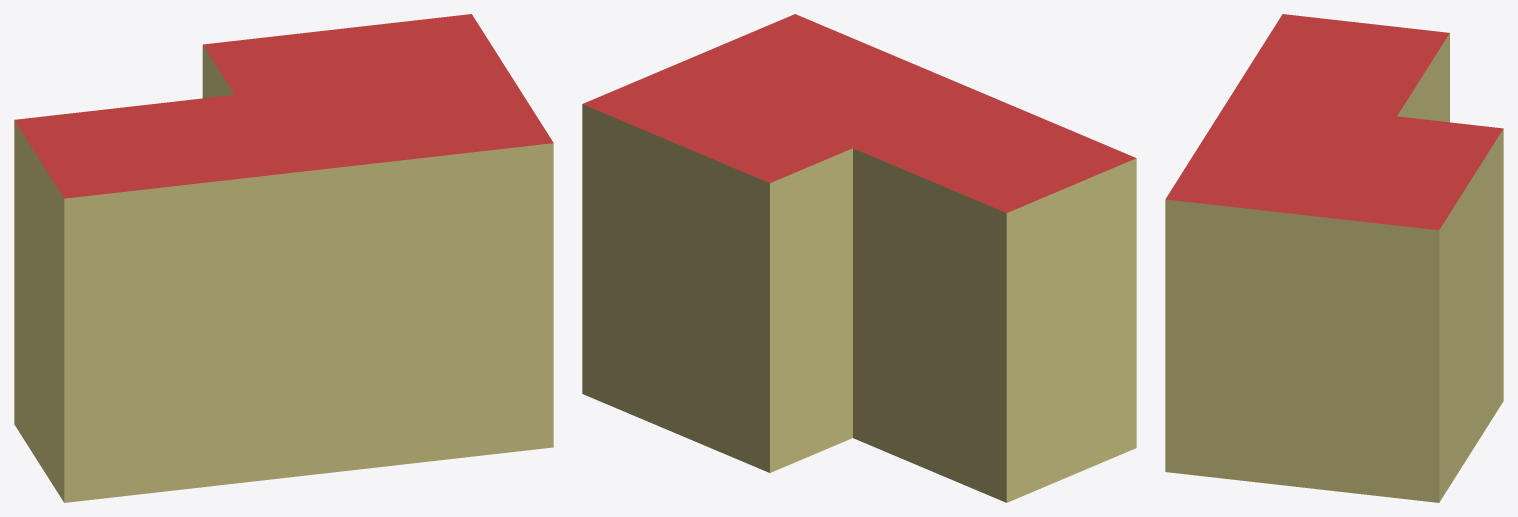
The picture shows the model from 3 angles, left to right: view 1: azimuth 30°, elevation 25°; view 2: azimuth 150°, elevation 25°; view 3: azimuth 270°, elevation 25°; orthographic projection. The views are drawn at different scales.
Bounding box in the file's own units: 8.62 × 5.69 × 5.06.
